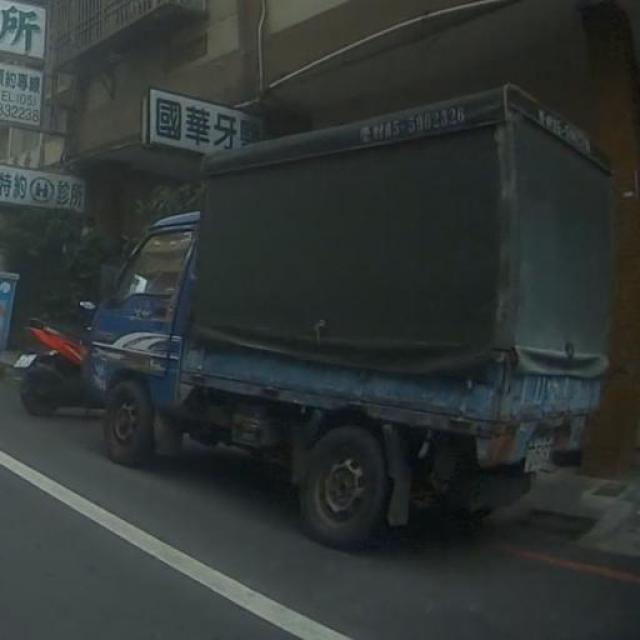illegalparking: (72, 79, 640, 571)
